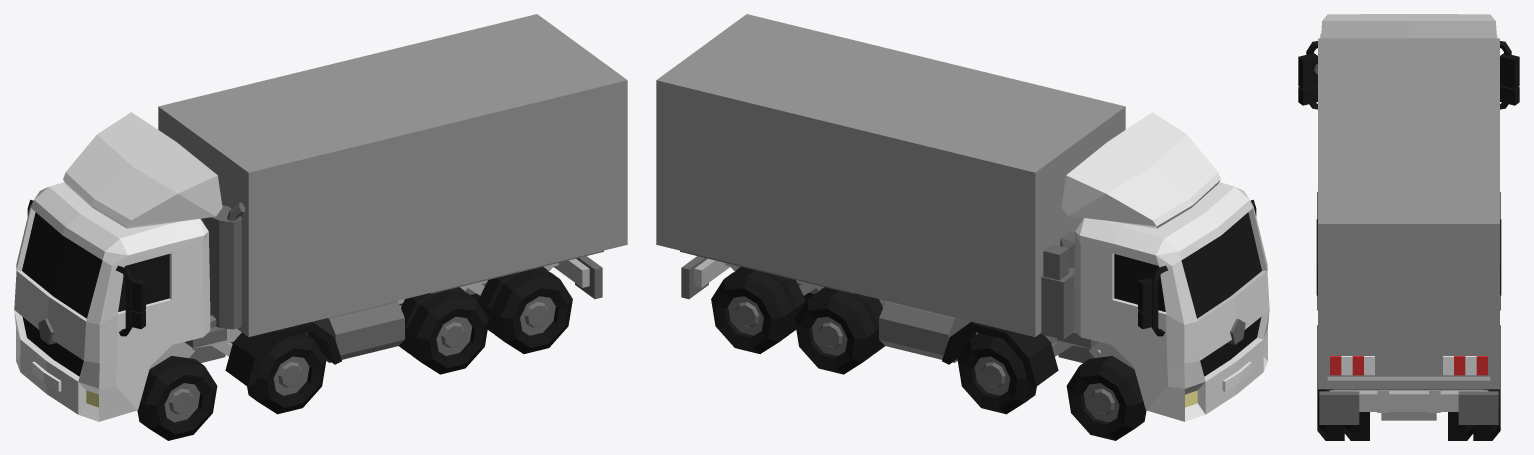
File: vehicle_static_truck_1.glb
The picture shows the model from 3 angles, left to right: view 1: azimuth 30°, elevation 25°; view 2: azimuth 150°, elevation 25°; view 3: azimuth 270°, elevation 25°; orthographic projection.
Visible parts, largest first — view 1: Truck 1 Cargo; view 2: Truck 1 Cargo; view 3: Truck 1 Cargo.
Boxes of the visible parts, <box> form: Truck 1 Cargo: <box>14,14,627,440</box>; Truck 1 Cargo: <box>656,14,1269,440</box>; Truck 1 Cargo: <box>1298,14,1519,440</box>.
Bounding box in the file's own units: 8.29 × 3.77 × 2.94.
4 materials, 4 textured.
